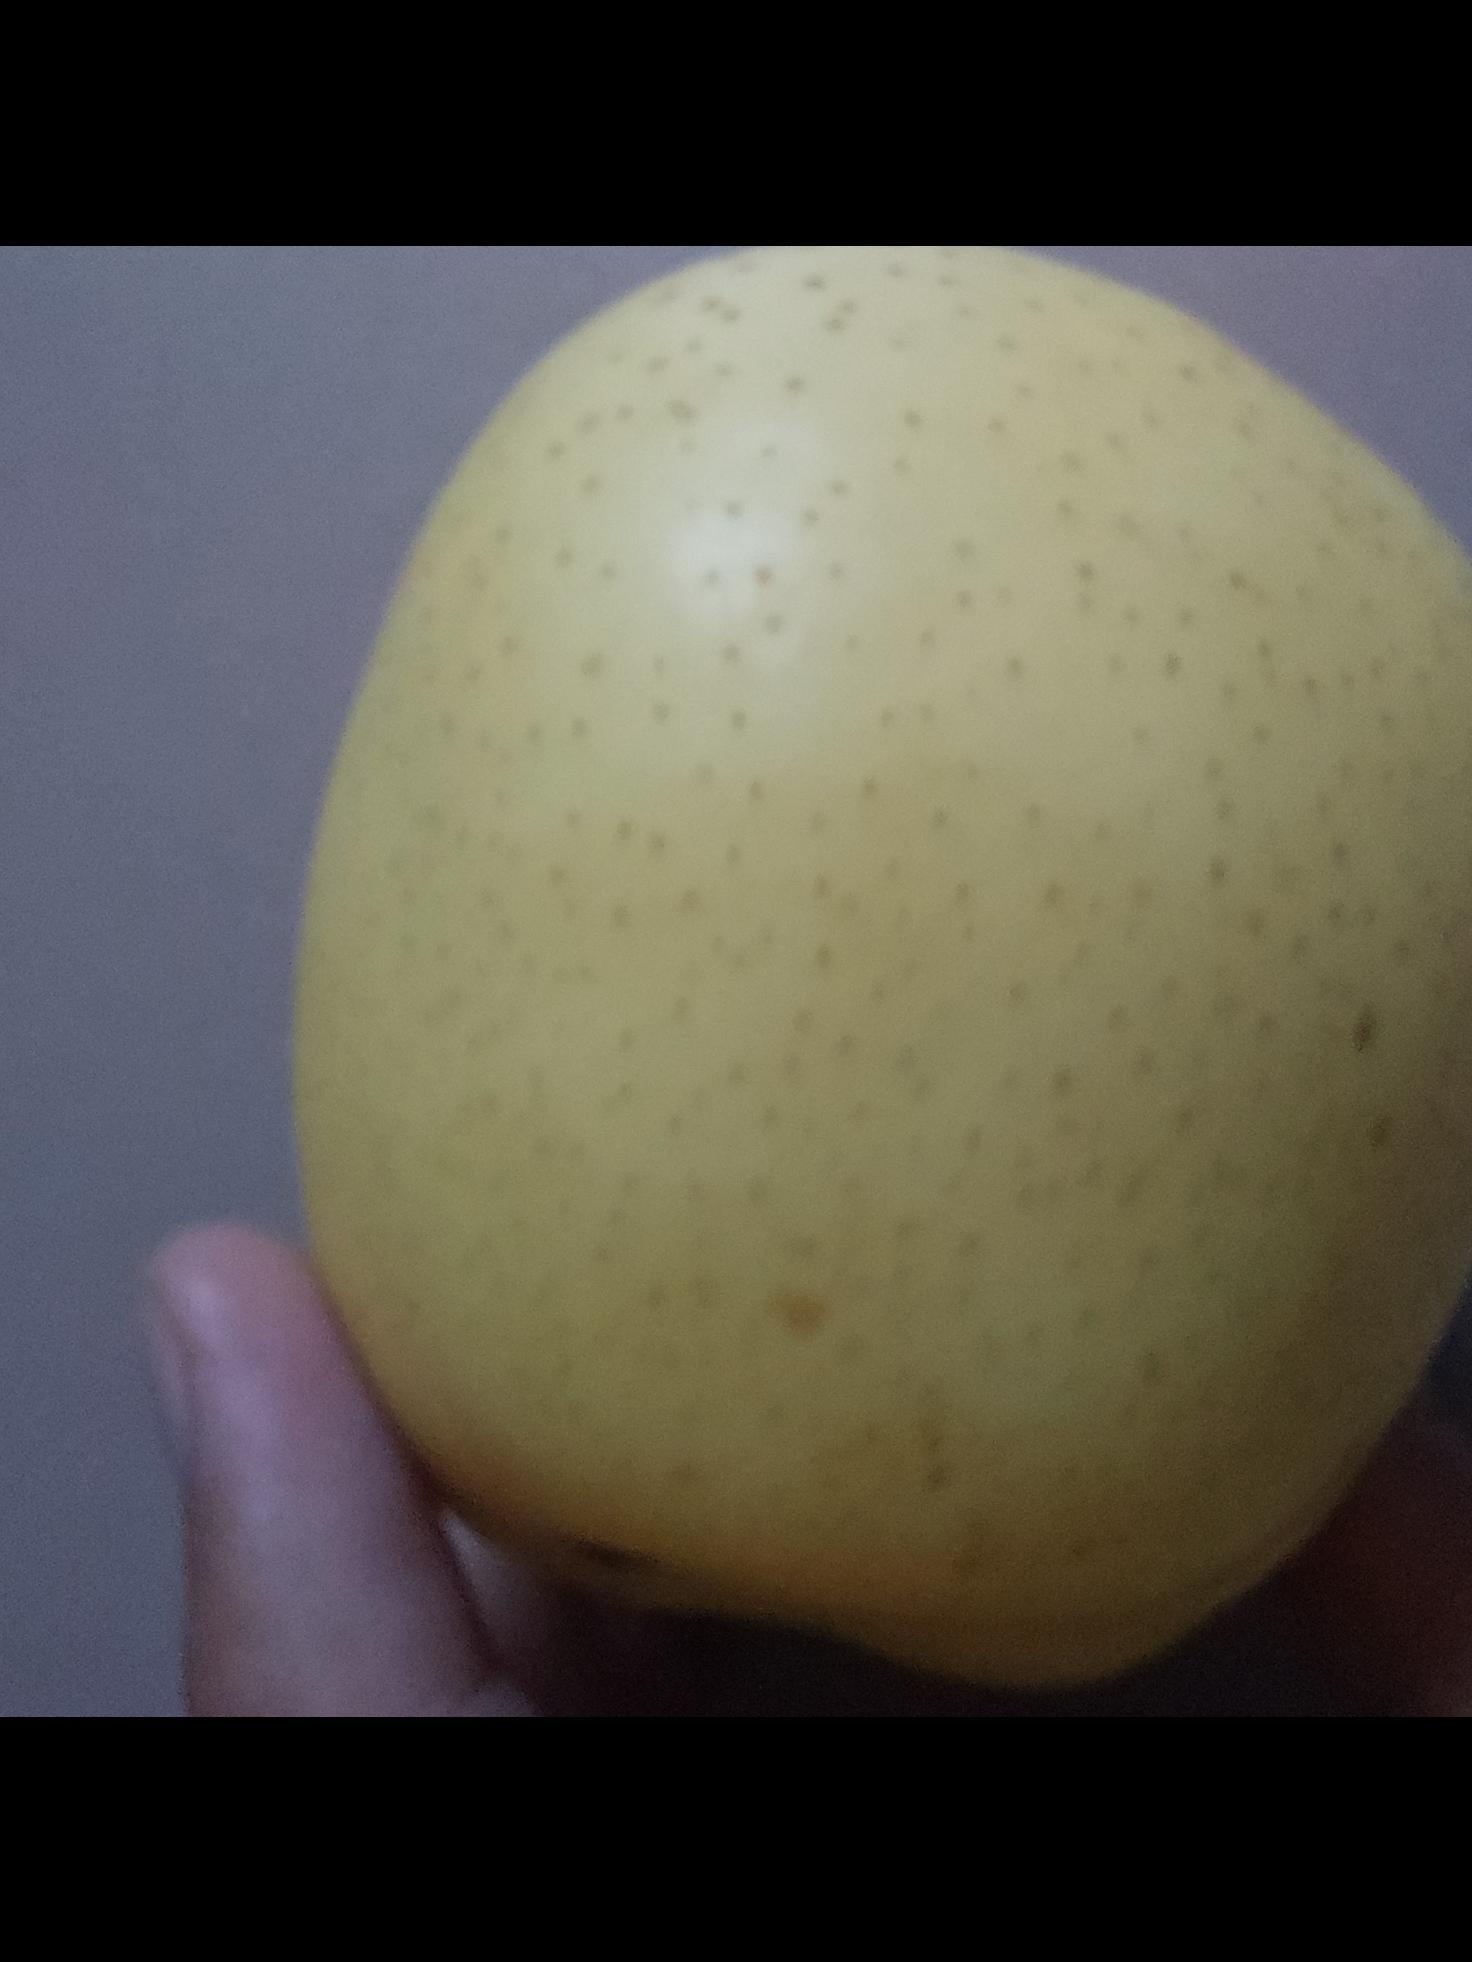Good Pear: (402, 244, 1472, 1481)
